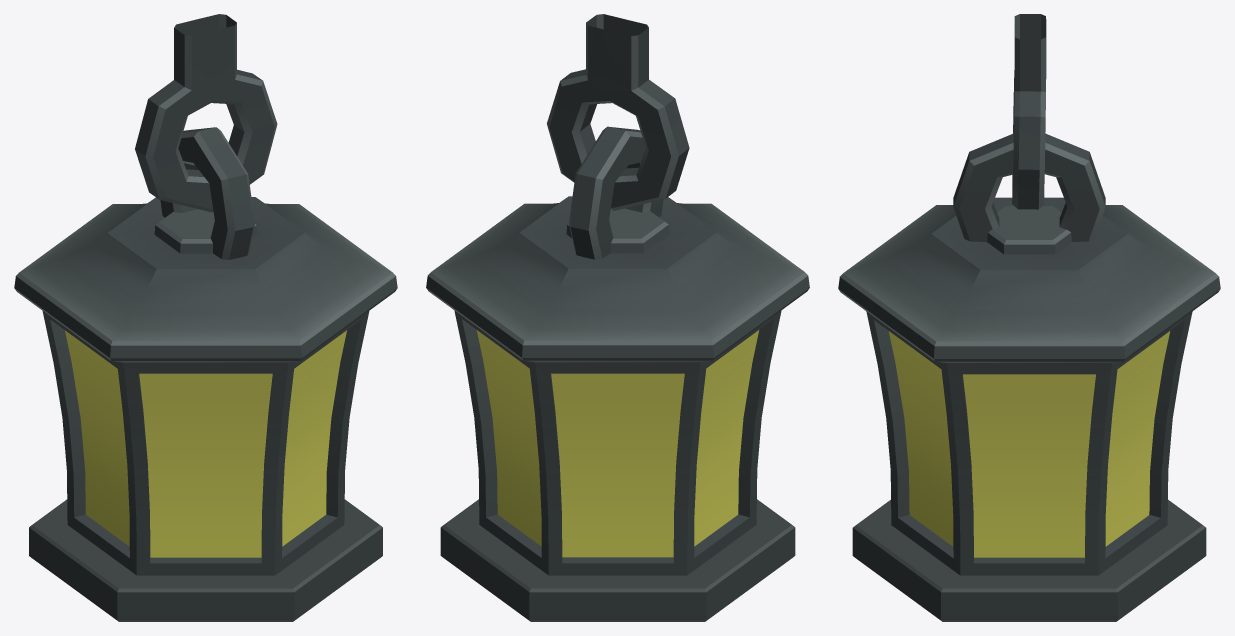
Rendered from Lamp-3-1.fbx.
3 views of the same model, side by side, from view 1: azimuth 30°, elevation 25°; view 2: azimuth 150°, elevation 25°; view 3: azimuth 270°, elevation 25° (orthographic).
Parts seen in each view (by area): view 1: Lamp-3-1; view 2: Lamp-3-1; view 3: Lamp-3-1.
Boxes of the visible parts, x1,y1,x2,y2 form: Lamp-3-1: (14, 14, 397, 621); Lamp-3-1: (426, 14, 809, 621); Lamp-3-1: (838, 14, 1220, 621).
Size of the model in its own units: 57.24 by 101 by 66.1.
